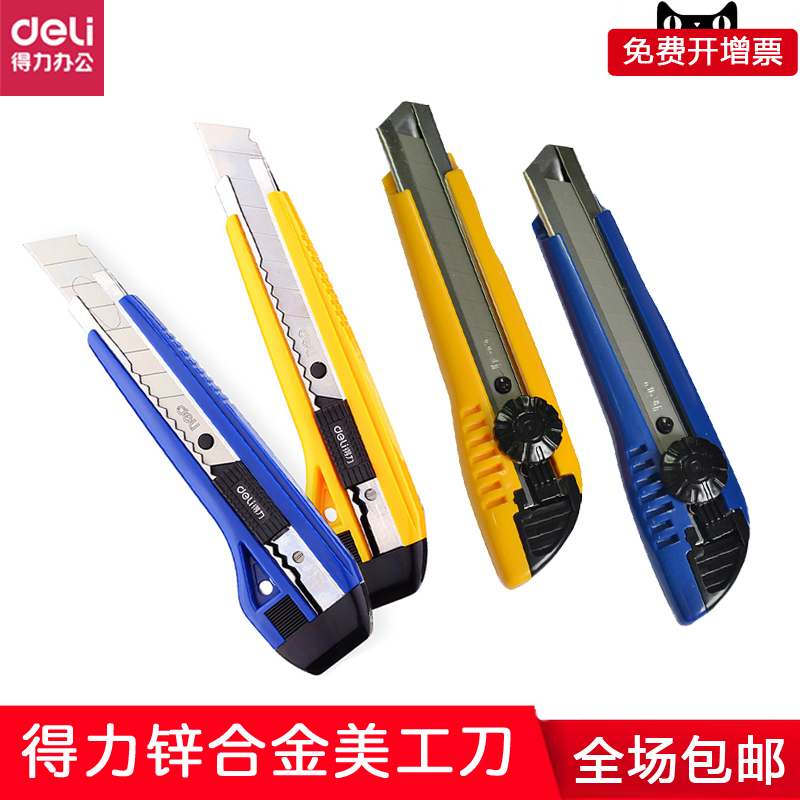cutter: (20, 234, 378, 678), (198, 120, 430, 609), (524, 144, 750, 626), (377, 99, 584, 592)
